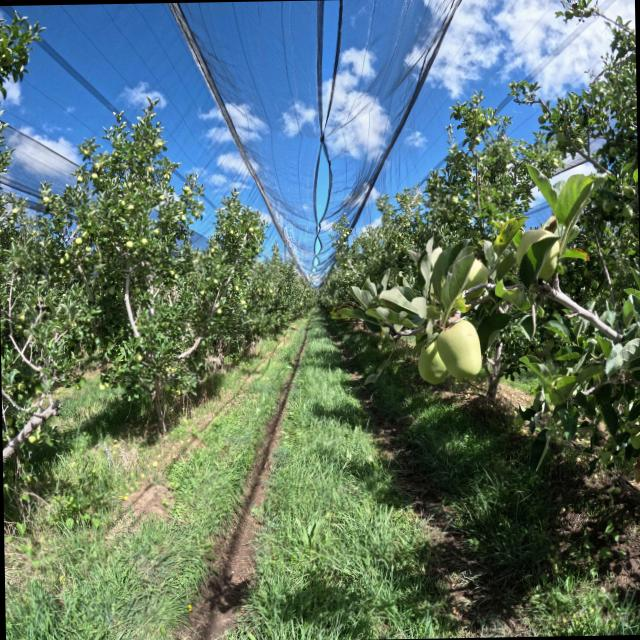-FireBlight-: (631, 452, 640, 482)
